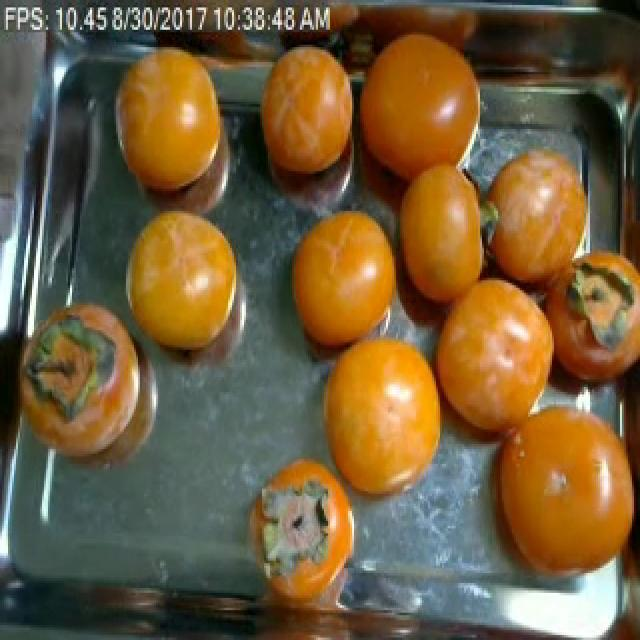Fruit: (302, 317, 448, 524), (110, 194, 258, 382), (98, 30, 244, 211), (274, 191, 400, 372), (246, 28, 356, 198), (606, 340, 640, 471)
